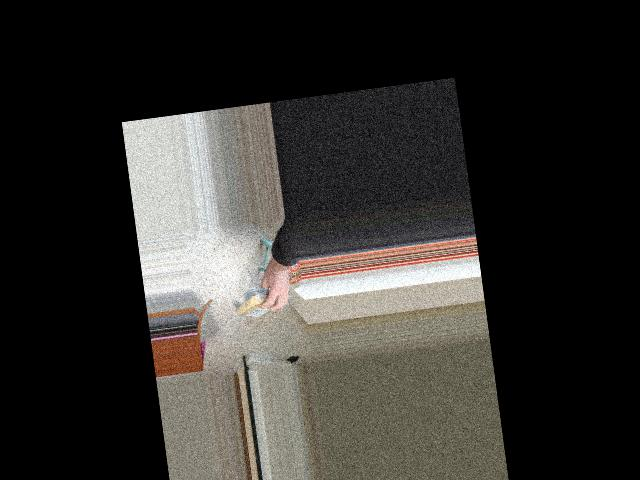cheese: (230, 283, 286, 323)
